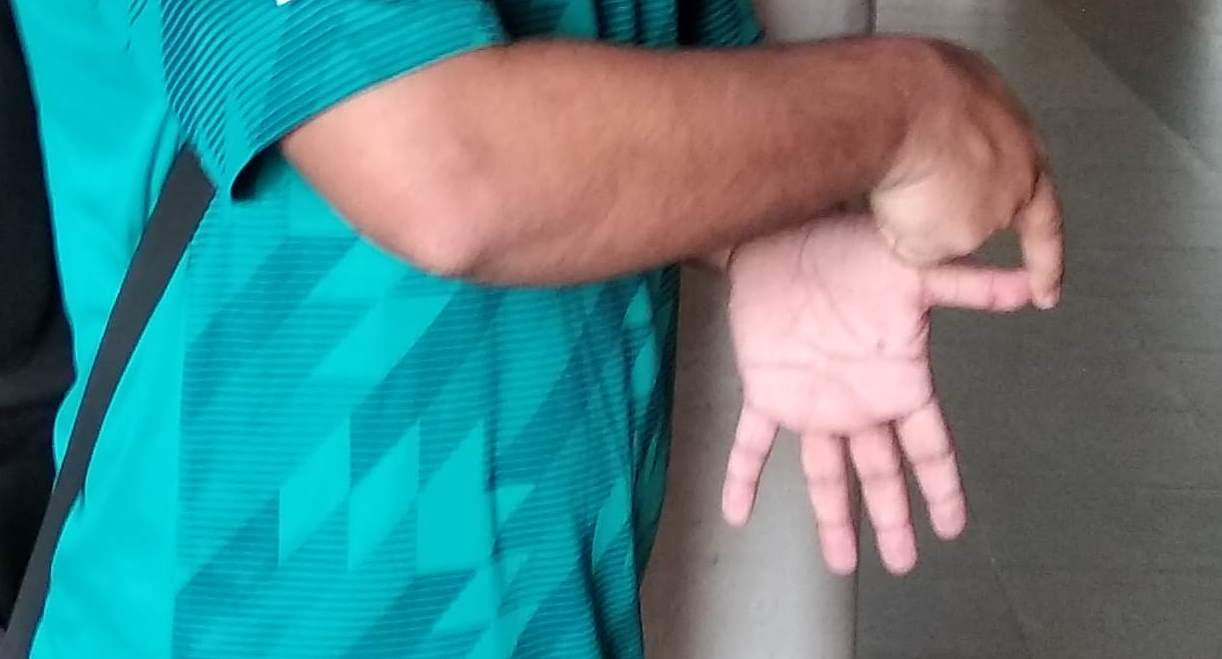a: (742, 95, 1070, 570)
